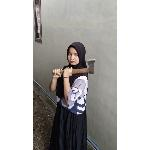Kapak: (49, 56, 99, 78)
